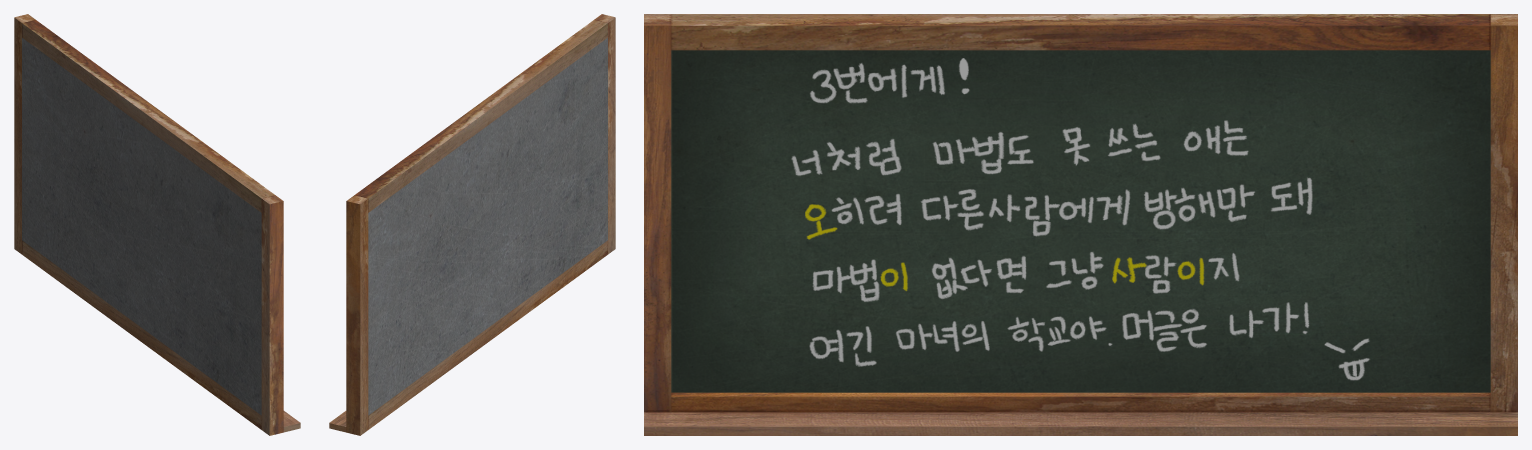
The model's file is Class_Board.fbx.
3 renders of one model, left to right at view 1: azimuth 30°, elevation 25°; view 2: azimuth 150°, elevation 25°; view 3: azimuth 270°, elevation 25°, orthographic. The views are drawn at different scales.
Parts seen in each view (by area): view 1: Blackboard_lp.000; view 2: Blackboard_lp.000; view 3: Blackboard_lp.000.
Boxes of the visible parts, bbox=[...] form: Blackboard_lp.000: bbox=[14, 14, 300, 435]; Blackboard_lp.000: bbox=[329, 14, 615, 435]; Blackboard_lp.000: bbox=[644, 14, 1517, 435].
Bounding box in the file's own units: 23.8 × 169 × 338.
